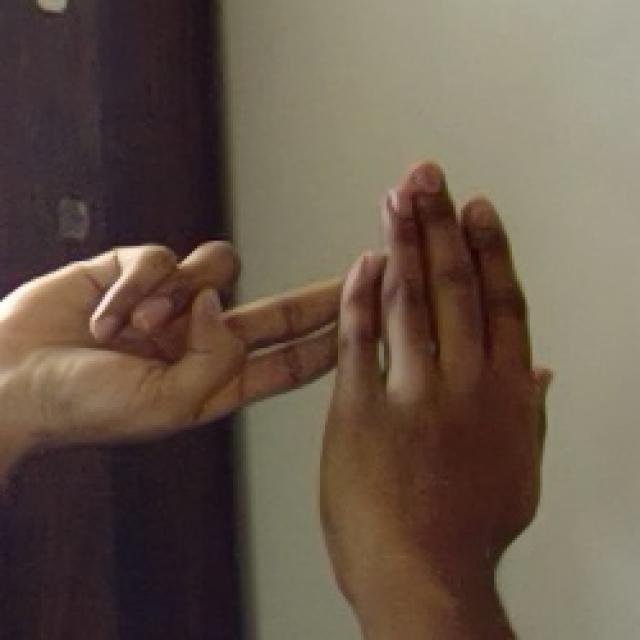Alphabet-N: (0, 152, 560, 580)
